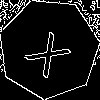X: (24, 23, 79, 79)
